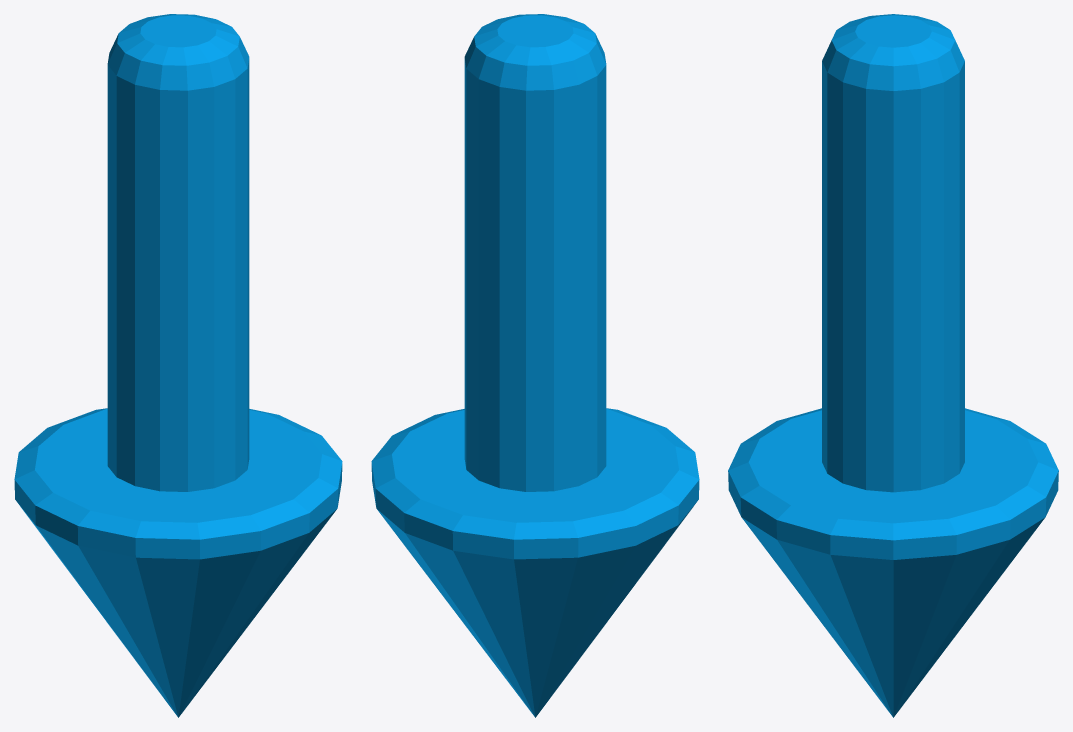
Rendered from arrow3d.fbx.
3 views of the same model, side by side, from view 1: azimuth 30°, elevation 25°; view 2: azimuth 150°, elevation 25°; view 3: azimuth 270°, elevation 25° (orthographic).
Visible parts, largest first — view 1: arrow; view 2: arrow; view 3: arrow.
Part boxes in pixels (x1,y1,x2,y2): arrow: [14, 14, 342, 717]; arrow: [371, 14, 699, 717]; arrow: [728, 14, 1058, 717].
Size of the model in its own units: 227 by 519 by 227.
